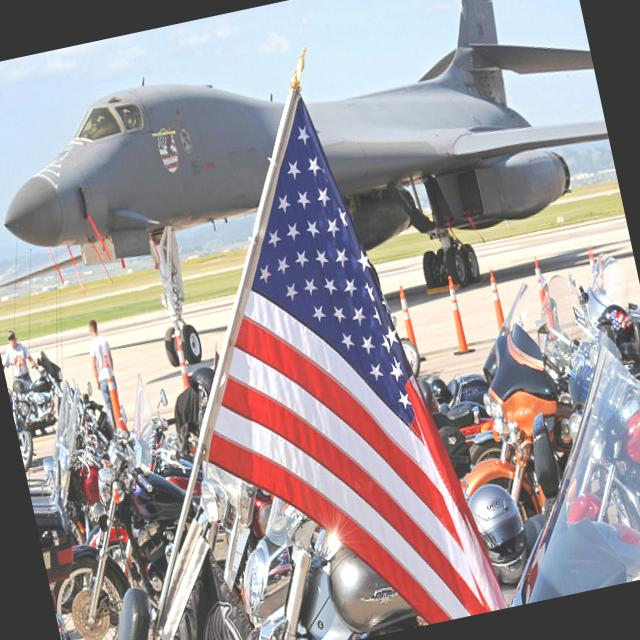Vehicle: (453, 334, 640, 608), (419, 276, 596, 538), (22, 428, 215, 640), (222, 467, 433, 640), (109, 452, 296, 640), (55, 421, 213, 540), (539, 249, 640, 435), (8, 370, 124, 490), (4, 344, 72, 433), (6, 376, 64, 474), (428, 366, 494, 440)
